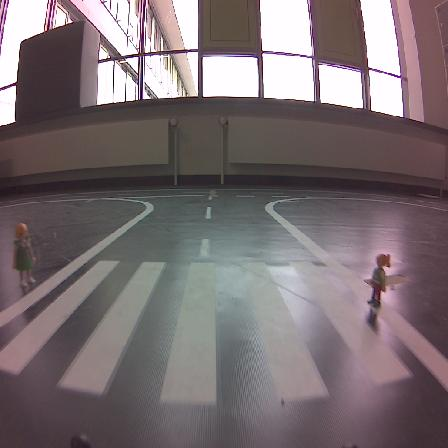CHILD: (367, 254, 390, 306)
PERSON: (13, 223, 35, 286)
